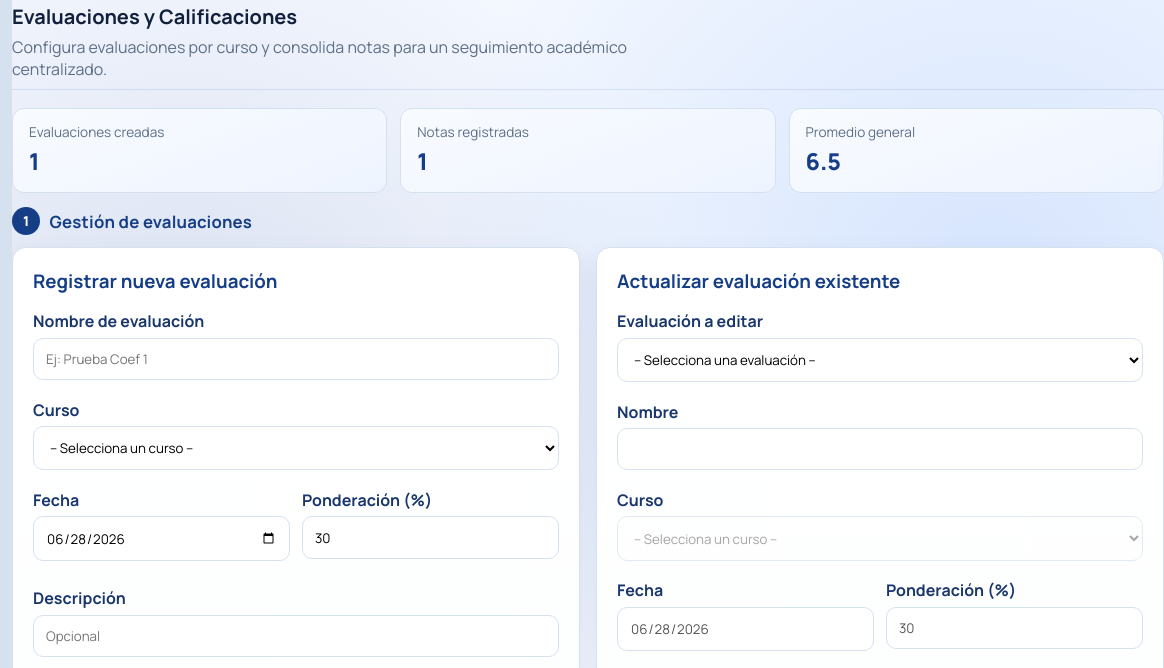
Test case: Evaluaciones — actualización de evaluación › muestra éxito tras actualizar evaluación
Select "Prueba 1 (1A)" in the dropdown labelled "Evaluación a editar" at (880, 360), box [617,338,1143,382]
(page scrolled)
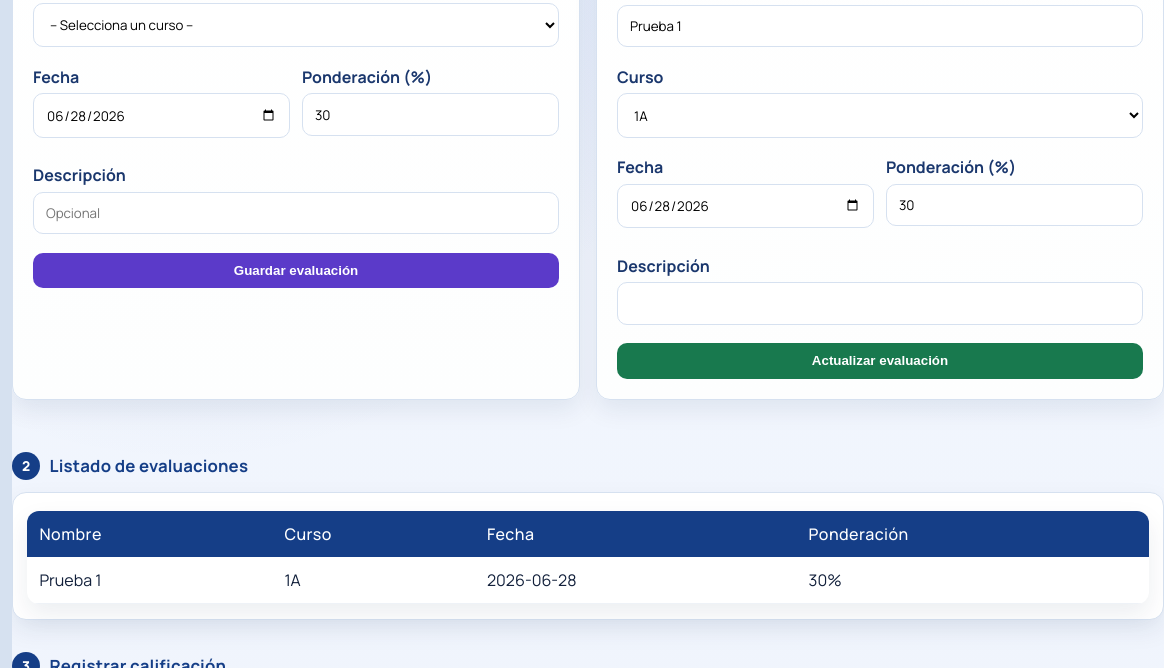
Check: the button "Actualizar evaluación" is enabled
Click the button "Actualizar evaluación" at (880, 361), box [617,343,1143,379]
(page scrolled)
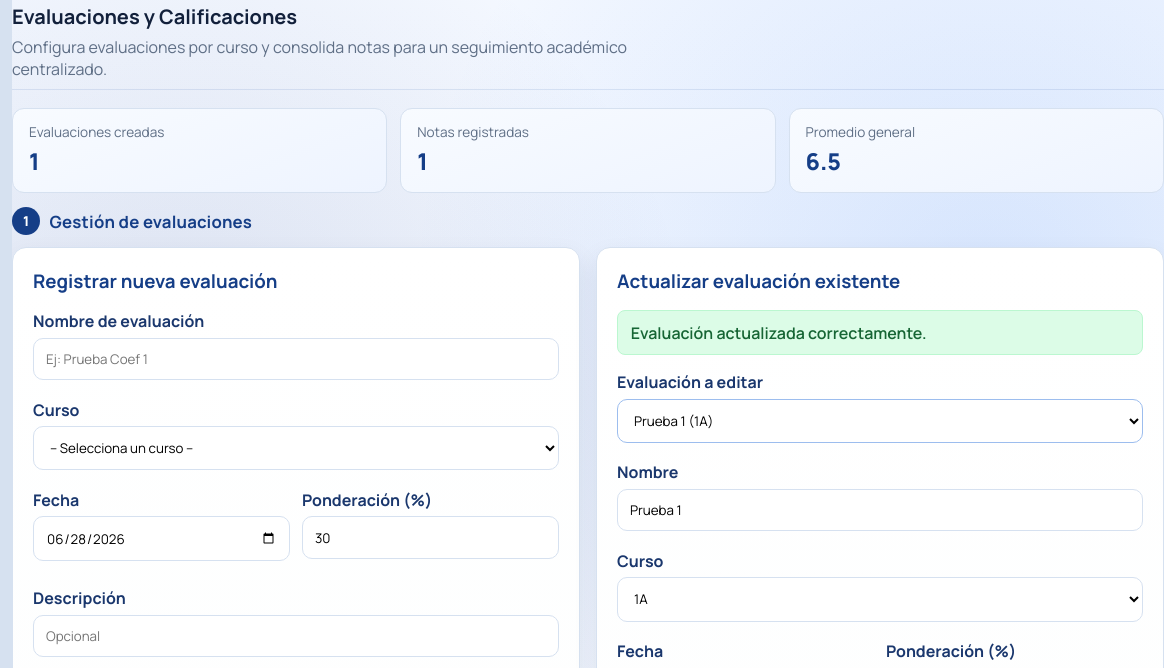
Check: the text "Evaluación actualizada correctamente." is shown, box [617,310,1143,355]
